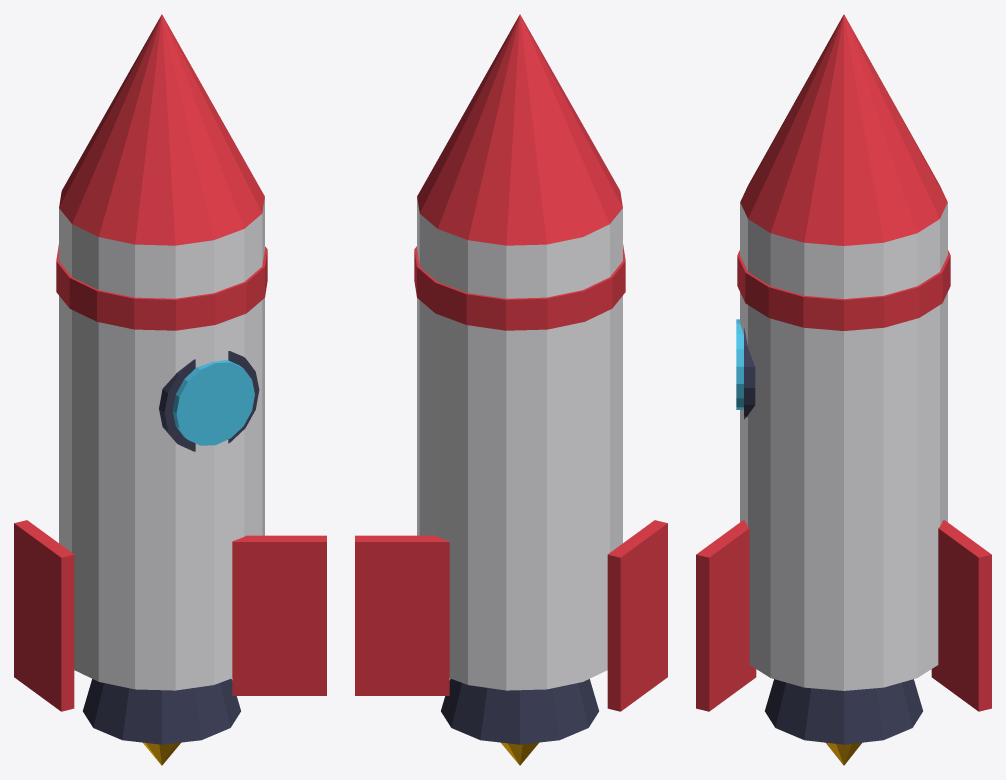
The model's file is foguete.glb.
3 views of the same model, side by side, from view 1: azimuth 30°, elevation 25°; view 2: azimuth 150°, elevation 25°; view 3: azimuth 270°, elevation 25° (orthographic).
Visible parts, largest first — view 1: foguete; view 2: foguete; view 3: foguete.
Part boxes in pixels (x1,y1,x2,y2): foguete: (14,14,326,765); foguete: (355,14,667,765); foguete: (696,14,991,765).
Size of the model in its own units: 1.36 by 4.4 by 1.57.
